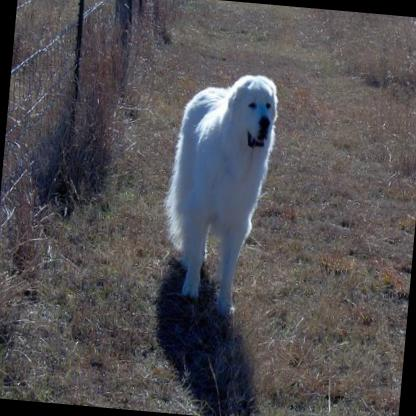Great_Pyrenees: (154, 62, 283, 321)
